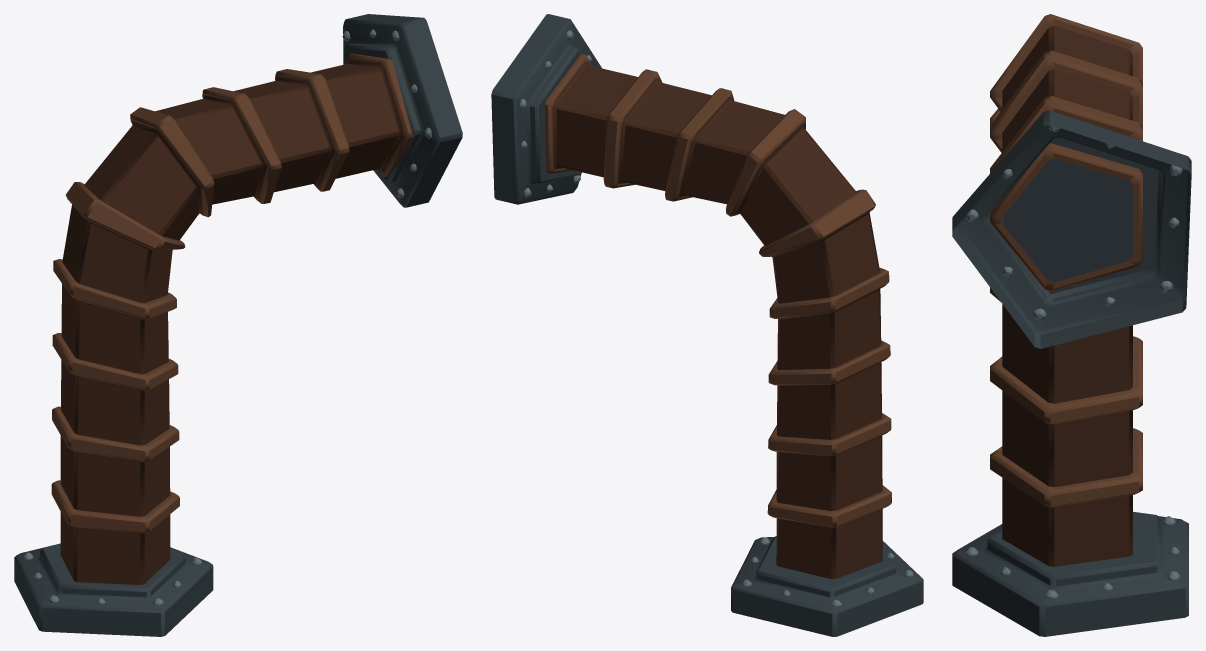
Rendered from pipe_shape1.fbx.
3 renders of one model, left to right at view 1: azimuth 30°, elevation 25°; view 2: azimuth 150°, elevation 25°; view 3: azimuth 270°, elevation 25°, orthographic. The views are drawn at different scales.
Visible parts, largest first — view 1: curve gen v2.007; view 2: curve gen v2.007; view 3: curve gen v2.007.
Part boxes in pixels (<box>): curve gen v2.007: <box>14,14,462,636</box>; curve gen v2.007: <box>491,14,923,636</box>; curve gen v2.007: <box>952,14,1191,636</box>.
Size of the model in its own units: 4.21 by 5.36 by 1.81.
